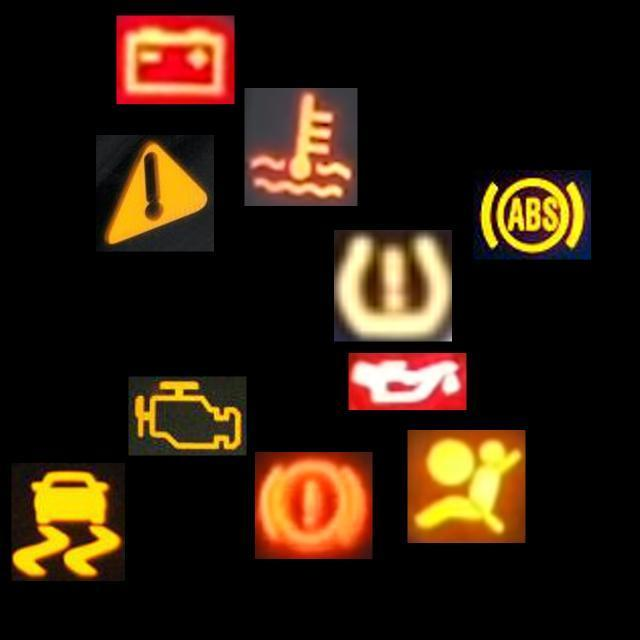Central Warning lamp: (96, 134, 214, 252)
Engine cooling system: (245, 88, 358, 206)
